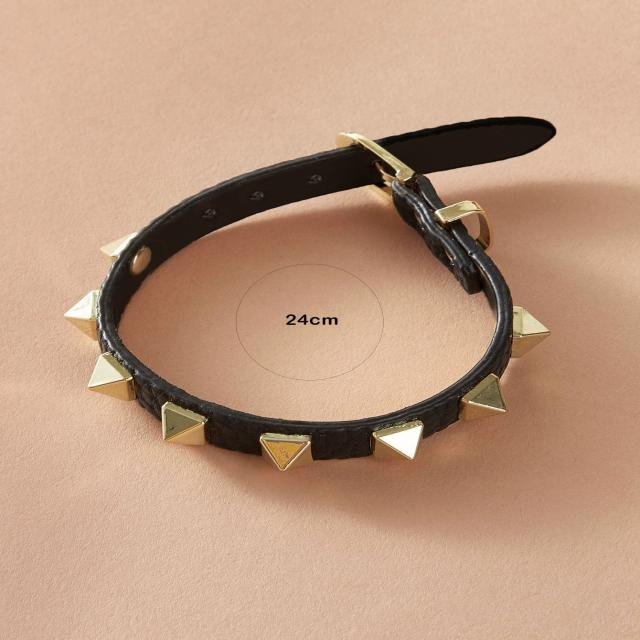bracelet: (0, 67, 638, 530)
